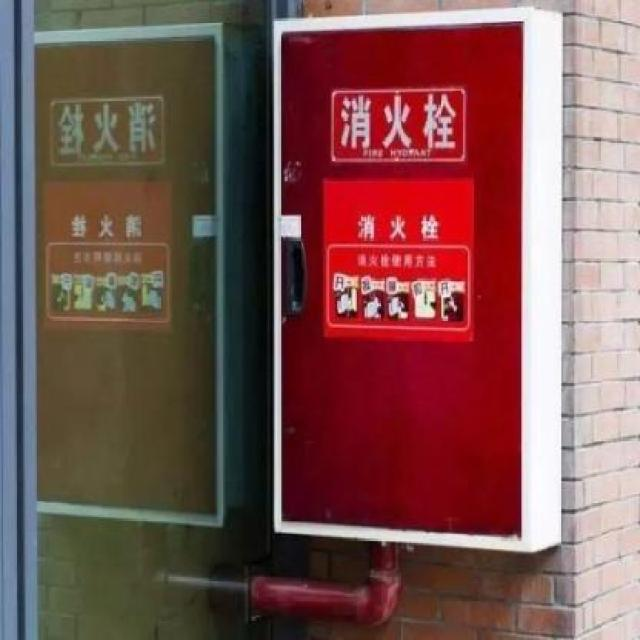firehydrant: (268, 2, 567, 560)
